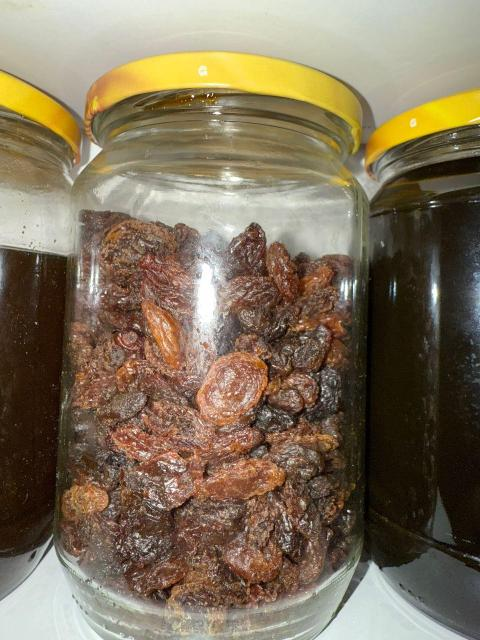Cam: (85, 160, 357, 595), (368, 173, 480, 639), (0, 174, 70, 557)
Metal: (80, 41, 377, 108), (363, 84, 480, 169), (1, 67, 84, 149)
Organik: (139, 452, 188, 512), (203, 360, 259, 407), (151, 300, 179, 352), (272, 251, 291, 283)
